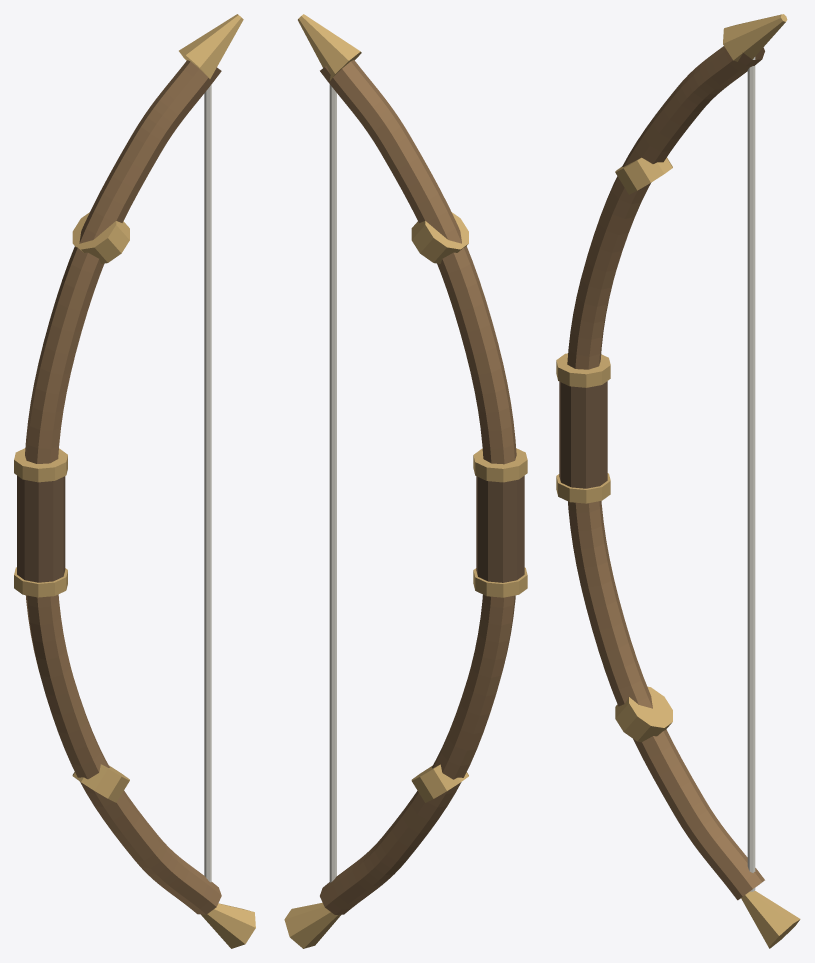
The model's file is bow.glb.
3 renders of one model, left to right at view 1: azimuth 30°, elevation 25°; view 2: azimuth 150°, elevation 25°; view 3: azimuth 330°, elevation 25°, orthographic.
Visible parts, largest first — view 1: bow; view 2: bow; view 3: bow.
Boxes of the visible parts, box(x1,y1,x2,y2) form: bow: box(14, 14, 255, 948); bow: box(284, 14, 527, 948); bow: box(556, 14, 800, 948).
Size of the model in its own units: 0.3616 by 1.37 by 0.074.
